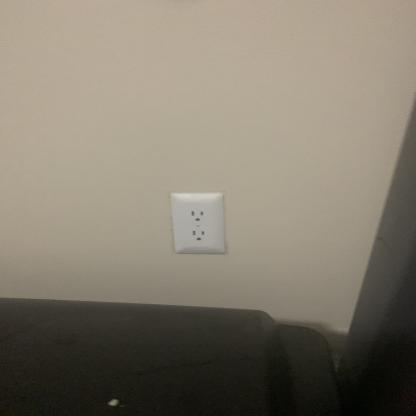OUTLET: (170, 194, 226, 254)
